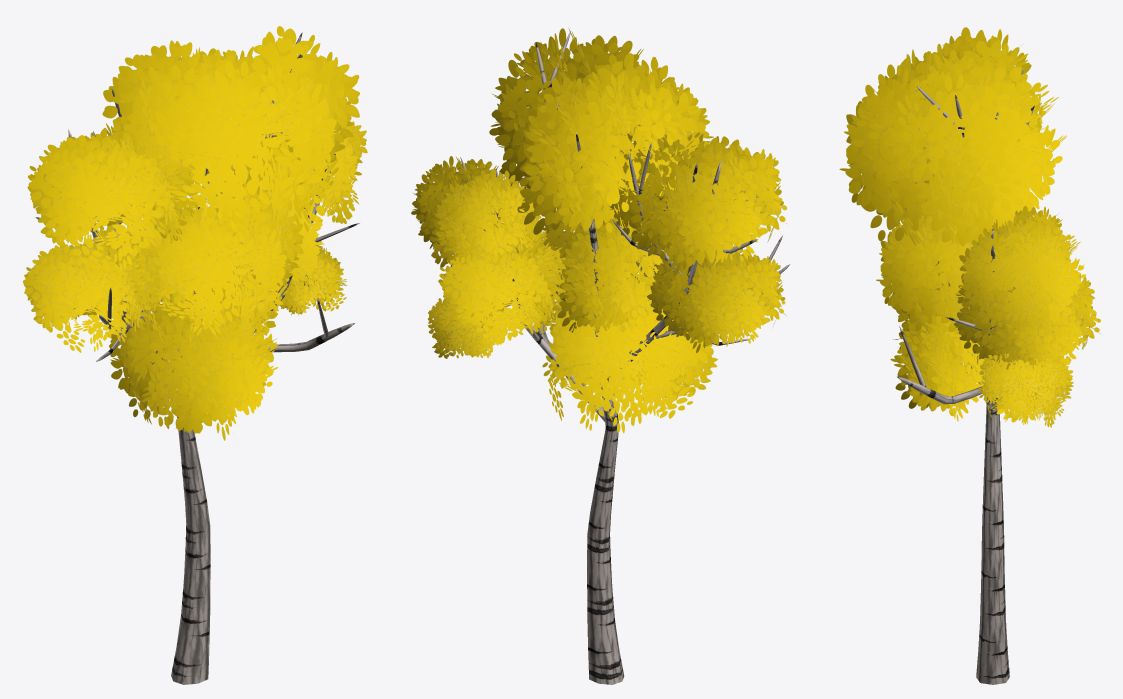
The model's file is prop_sn_birch_tree_3.glb.
3 views of the same model, side by side, from view 1: azimuth 30°, elevation 25°; view 2: azimuth 150°, elevation 25°; view 3: azimuth 270°, elevation 25° (orthographic). The views are drawn at different scales.
Visible parts, largest first — view 1: BirchTree_3; view 2: BirchTree_3; view 3: BirchTree_3.
Part boxes in pixels (box(x1,y1,x2,y2)): BirchTree_3: box(23, 26, 367, 684); BirchTree_3: box(411, 28, 790, 684); BirchTree_3: box(839, 27, 1100, 684).
Size of the model in its own units: 3.43 by 5.75 by 2.27.
2 materials, 2 textured.
